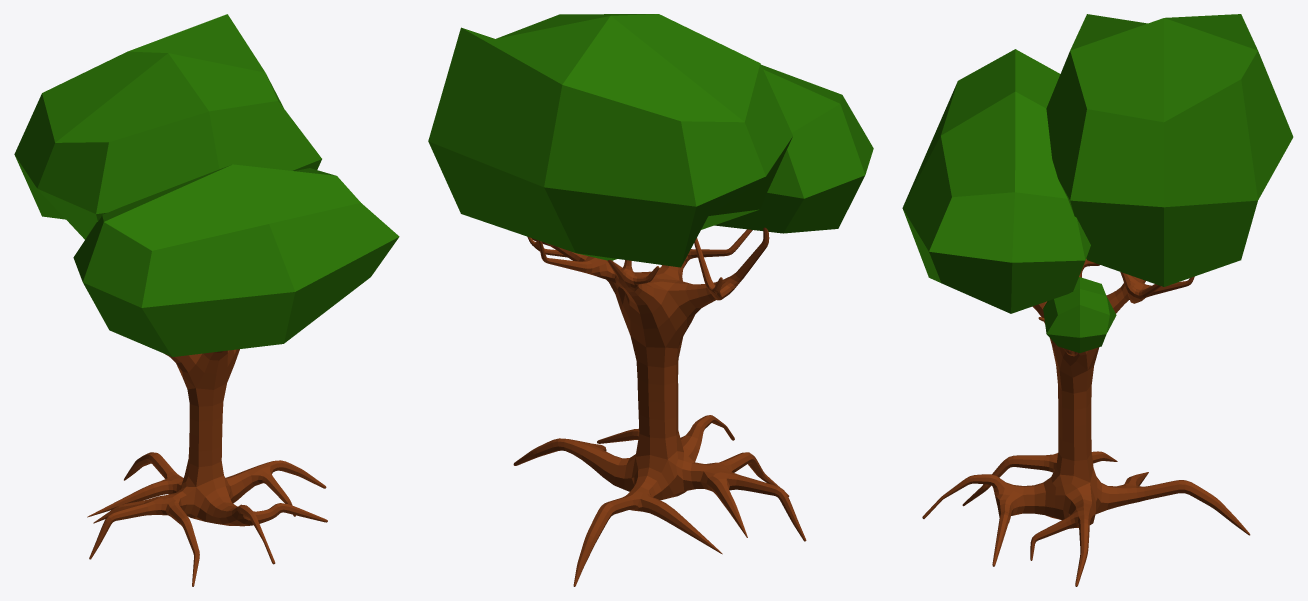
The model's file is arbol (modelo 3).fbx.
3 views of the same model, side by side, from view 1: azimuth 30°, elevation 25°; view 2: azimuth 150°, elevation 25°; view 3: azimuth 270°, elevation 25° (orthographic). The views are drawn at different scales.
Visible parts, largest first — view 1: Cube.002, Cube, tronco; view 2: Cube, tronco, Cube.002; view 3: Cube, Cube.002, tronco, Cube.001.
Part boxes in pixels (left/top/right/bottom): Cube.002: left=73, top=164, right=399, bottom=356; Cube: left=14, top=14, right=321, bottom=239; tronco: left=87, top=349, right=327, bottom=586; Cube: left=428, top=14, right=792, bottom=267; tronco: left=513, top=227, right=806, bottom=586; Cube.002: left=714, top=64, right=873, bottom=233; Cube: left=1046, top=14, right=1293, bottom=286; Cube.002: left=902, top=49, right=1090, bottom=313; tronco: left=922, top=259, right=1250, bottom=586; Cube.001: left=1043, top=277, right=1116, bottom=353.
Bounding box in the file's own units: 392 × 576 × 390.
